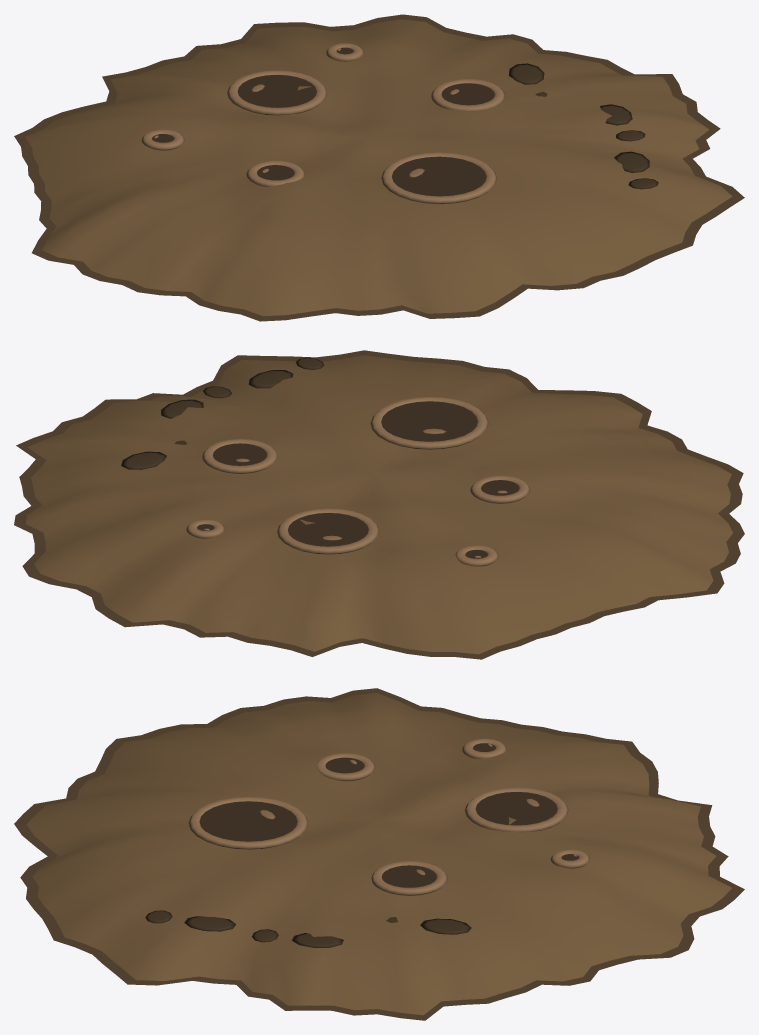
The model's file is detail_mud_patch.glb.
3 renders of one model, top to bottom at view 1: azimuth 30°, elevation 25°; view 2: azimuth 150°, elevation 25°; view 3: azimuth 270°, elevation 25°, orthographic. The views are drawn at different scales.
Visible parts, largest first — view 1: plaster, object 8, object 2, object 4; view 2: plaster, object 8, object 2, object 4; view 3: plaster, object 8, object 2, object 4.
Part boxes in pixels (x1,y1,x2,y2): plaster: (14,14,744,321); object 8: (392,156,486,196); object 2: (237,75,316,107); object 4: (441,83,494,105); plaster: (14,350,744,659); object 8: (381,401,477,441); object 2: (288,513,368,546); object 4: (213,443,266,465); plaster: (14,688,744,1020); object 8: (199,801,297,841); object 2: (475,792,557,825); object 4: (382,865,436,887).
Bounding box in the file's own units: 1.4 × 0.08 × 1.3.
